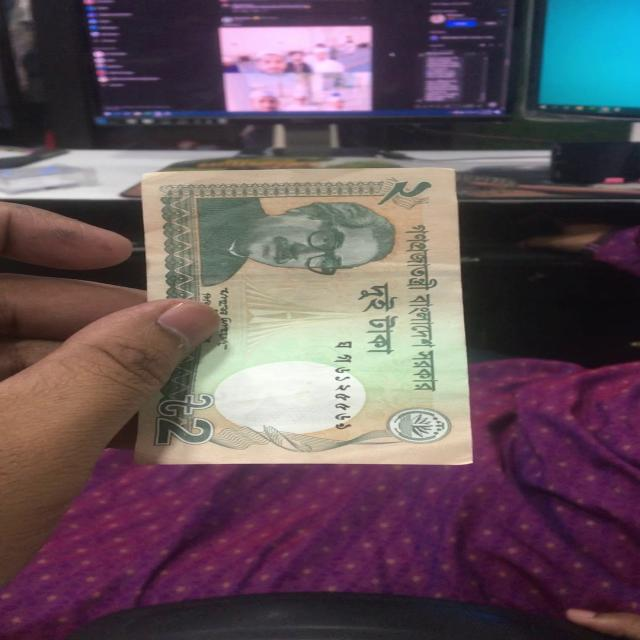Taka: (133, 166, 474, 472)
